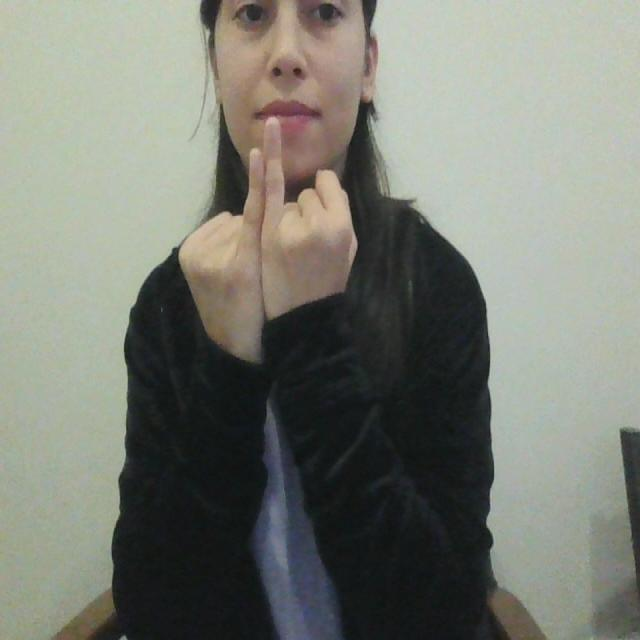Kardes: (173, 113, 363, 373)
